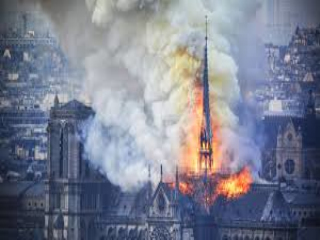fire: (184, 86, 259, 198)
smoke: (68, 3, 233, 183)
